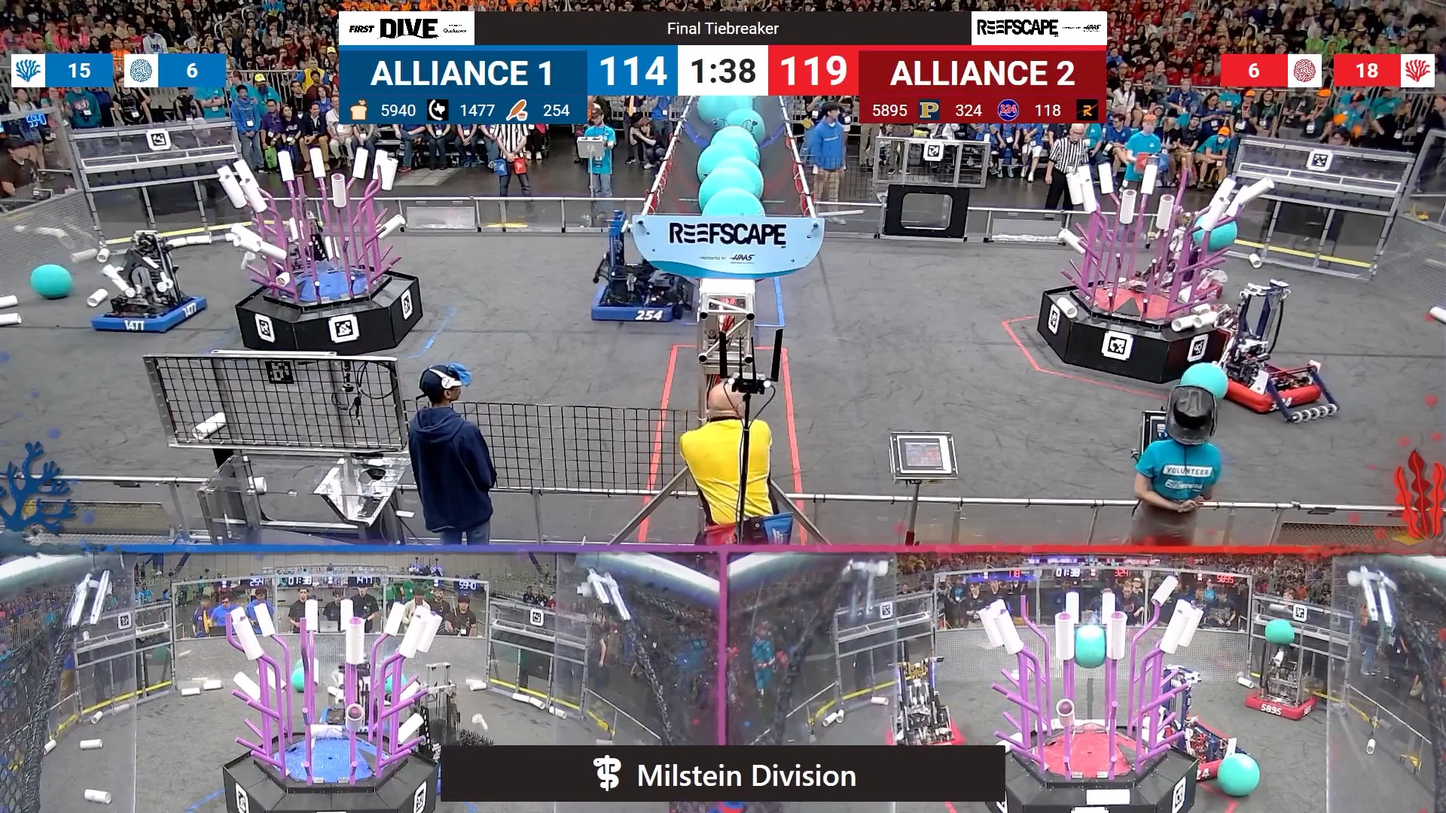bumpers: (1212, 356, 1334, 421), (87, 289, 217, 340), (590, 275, 696, 331), (880, 711, 970, 748), (1234, 689, 1322, 724)
